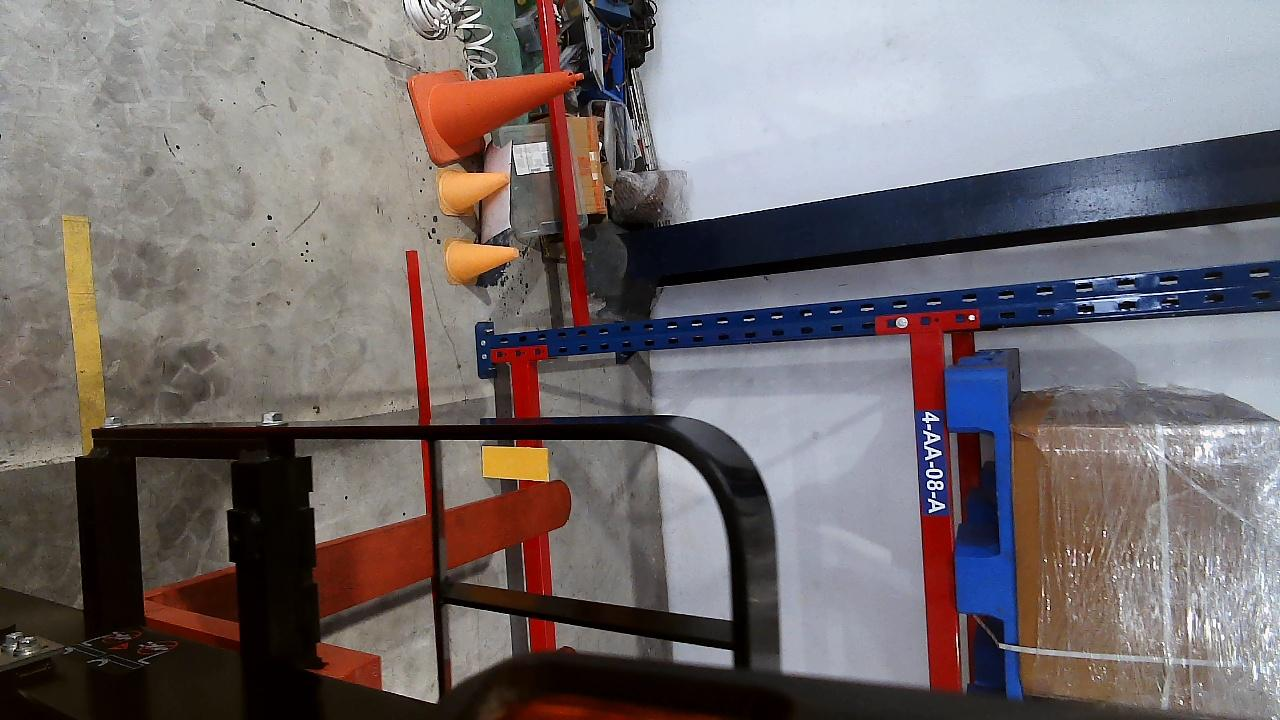h_rack: (907, 326, 963, 690), (506, 360, 561, 652)
orange_strip: (480, 445, 553, 480)
red_line: (404, 250, 432, 424)
small_pallet: (947, 367, 1014, 688)
yellow_line: (61, 215, 108, 430)
